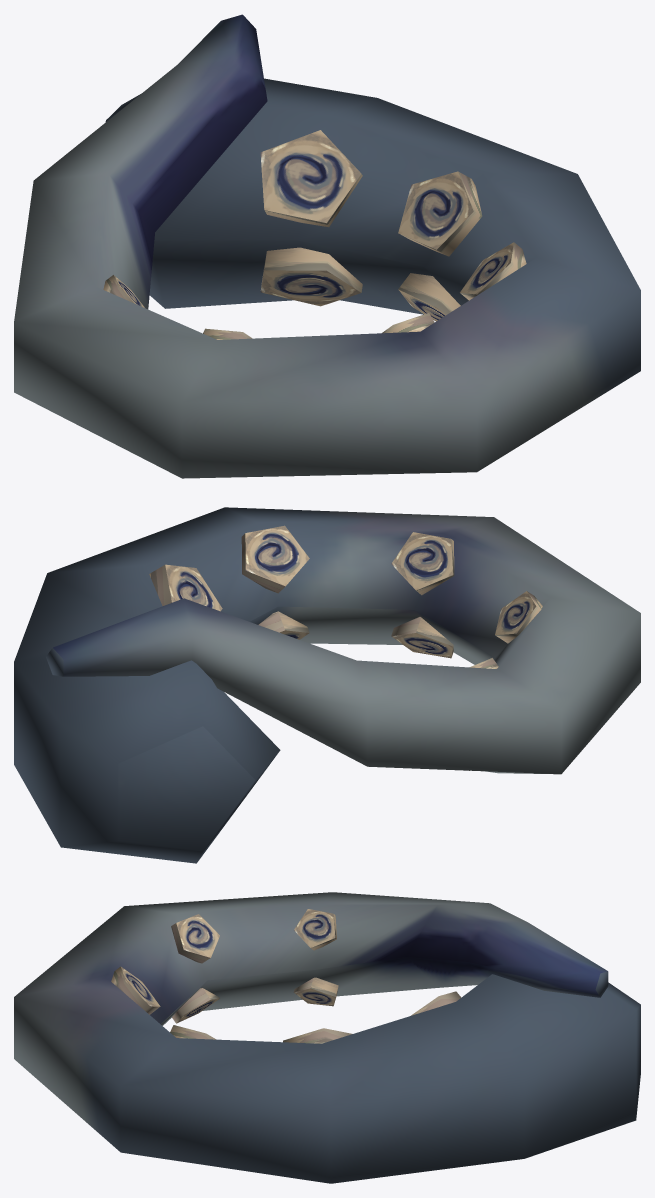
Rendered from SM_Chain_Ct.FBX.
3 views of the same model, one above another, from view 1: azimuth 30°, elevation 25°; view 2: azimuth 150°, elevation 25°; view 3: azimuth 270°, elevation 25° (orthographic). The views are drawn at different scales.
Visible parts, largest first — view 1: SM_Chain_Ct; view 2: SM_Chain_Ct; view 3: SM_Chain_Ct.
Boxes of the visible parts, <box> form: SM_Chain_Ct: <box>14,14,640,478</box>; SM_Chain_Ct: <box>14,507,640,863</box>; SM_Chain_Ct: <box>14,892,640,1183</box>.
Size of the model in its own units: 14.85 by 6.55 by 17.51.
Materials: 1 (1 with a texture image).
